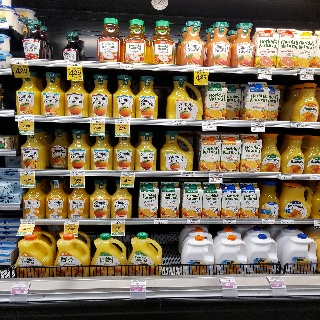All PRICE TAGS: (12, 281, 32, 287), (130, 279, 146, 286), (114, 118, 130, 124), (267, 277, 284, 282), (300, 68, 314, 74), (291, 122, 305, 128), (12, 59, 28, 64), (66, 62, 82, 67), (18, 116, 34, 121), (219, 277, 235, 282), (279, 174, 292, 180), (19, 170, 34, 175), (69, 171, 84, 176), (120, 63, 134, 68), (194, 66, 208, 71), (90, 118, 104, 123), (171, 120, 185, 125), (121, 171, 135, 176), (181, 172, 195, 177), (21, 219, 35, 224), (111, 219, 125, 224), (186, 219, 200, 224), (281, 219, 294, 224), (154, 219, 167, 224), (223, 219, 236, 224), (262, 219, 275, 224), (64, 220, 79, 224), (258, 69, 272, 73), (202, 121, 216, 125), (251, 122, 265, 126), (210, 173, 223, 177), (310, 175, 320, 179)
